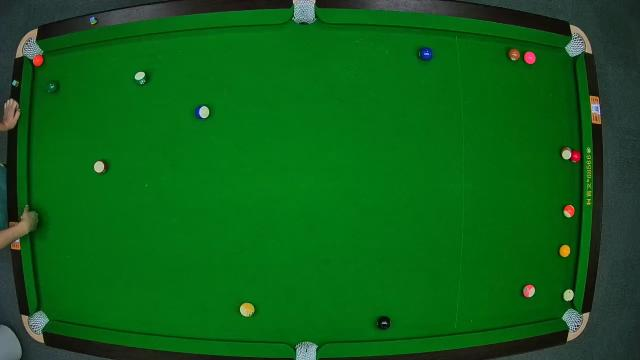bag1: (20, 40, 40, 61)
bag2: (292, 1, 316, 25)
bag3: (566, 35, 588, 55)
bag4: (28, 311, 48, 333)
bag5: (293, 340, 319, 360)
bag6: (562, 308, 582, 332)
ball0: (562, 288, 576, 302)
ball1: (559, 244, 573, 258)
ball10: (194, 104, 210, 122)
ball11: (92, 160, 108, 174)
ball12: (522, 284, 536, 298)
ball13: (562, 204, 574, 218)
ball14: (300, 11, 316, 27), (134, 70, 150, 84)
ball15: (558, 147, 574, 161)
ball2: (418, 46, 432, 62)
ball3: (568, 150, 584, 164)
ball4: (524, 50, 538, 66)
ball5: (32, 56, 44, 66)
ball6: (46, 78, 60, 94)
ball7: (508, 48, 524, 62)
ball8: (376, 316, 392, 330)
ball9: (240, 302, 254, 318)
